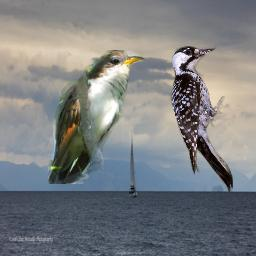Cuckoo: (48, 50, 145, 184)
Woodpecker: (170, 46, 233, 192)
